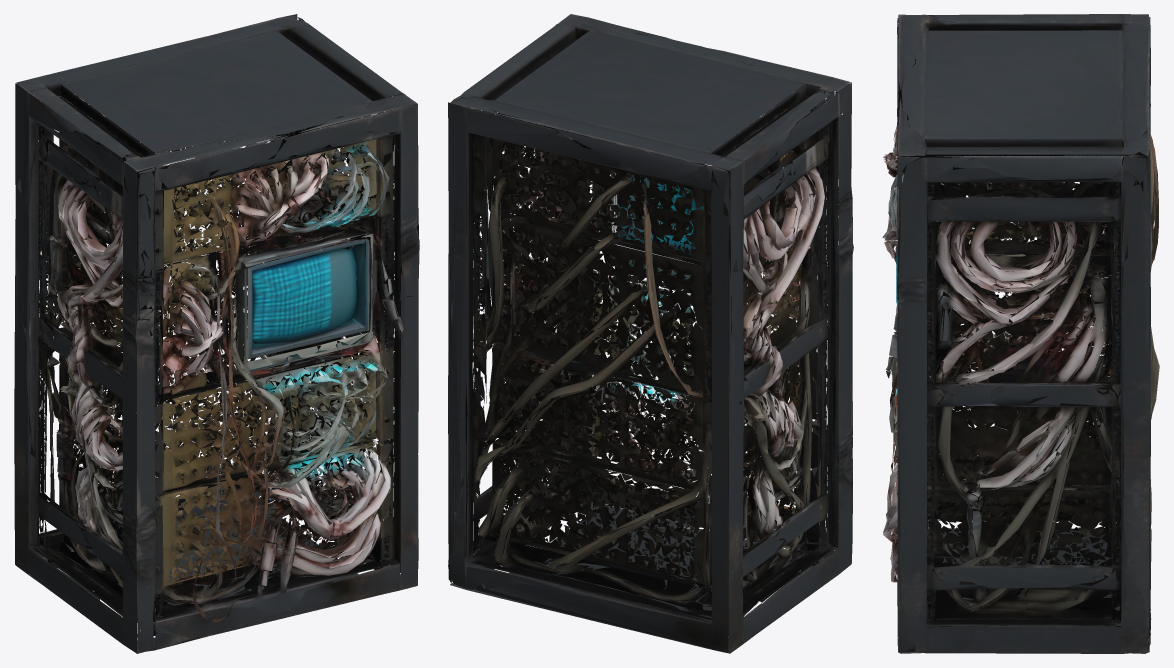
The model's file is meridian_optic_nerve_patchbay.glb.
3 views of the same model, side by side, from view 1: azimuth 30°, elevation 25°; view 2: azimuth 150°, elevation 25°; view 3: azimuth 270°, elevation 25° (orthographic). The views are drawn at different scales.
Visible parts, largest first — view 1: node_0; view 2: node_0; view 3: node_0.
Boxes of the visible parts, x1,y1,x2,y2 form: node_0: (14, 14, 419, 653); node_0: (448, 14, 853, 653); node_0: (882, 14, 1159, 653).
Bounding box in the file's own units: 0.5877 × 0.9578 × 0.4819.
Materials: 1 (1 with a texture image).
